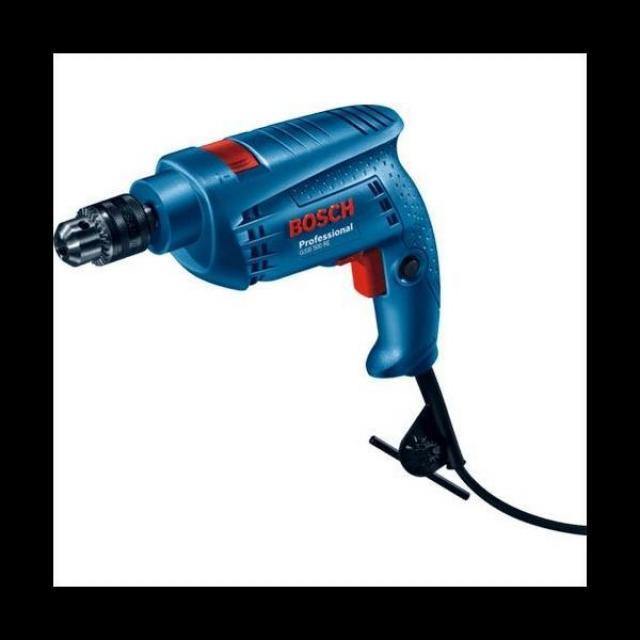drill: (54, 104, 468, 476)
